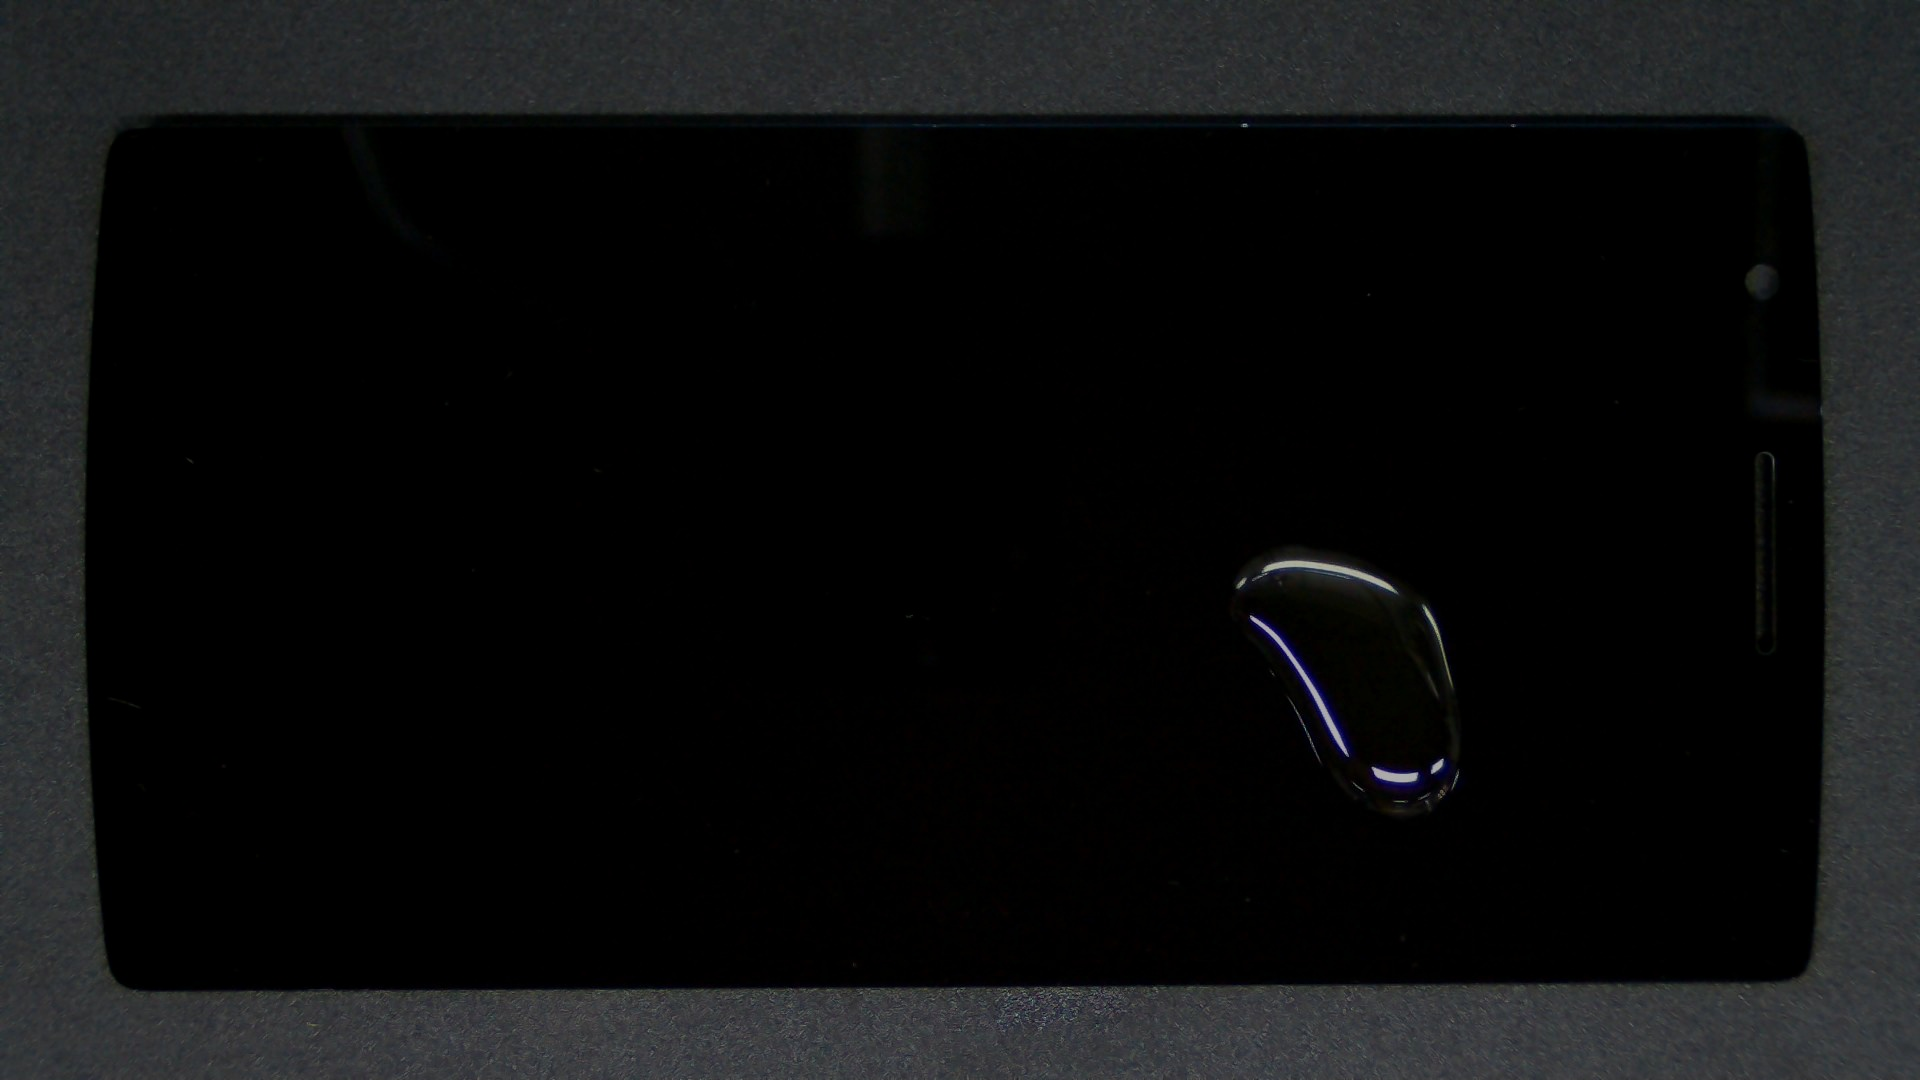oil: (650, 272, 1920, 816)
